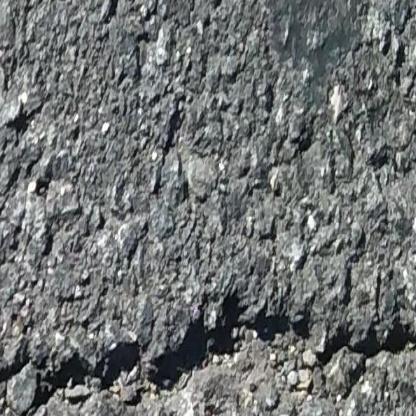Cracks: (147, 289, 314, 393), (0, 338, 144, 416), (305, 319, 416, 404)
